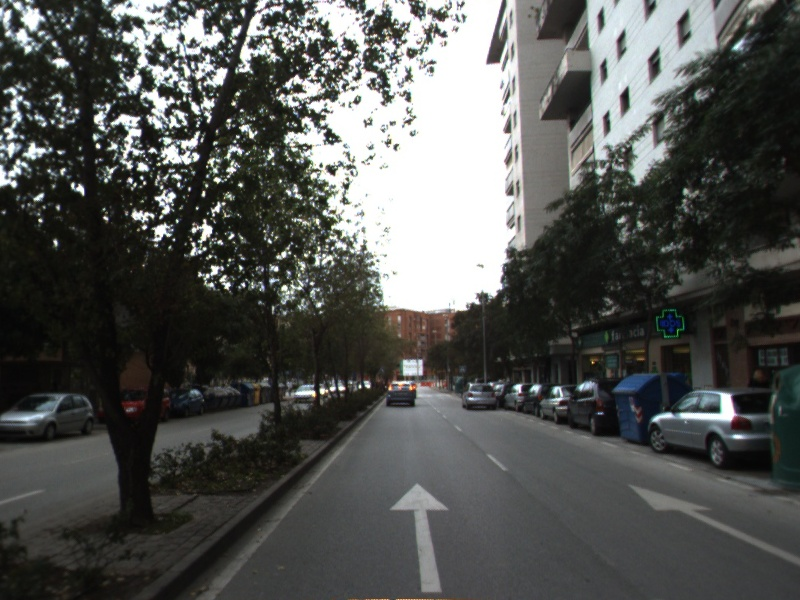STRAIGHT: (624, 481, 800, 567), (387, 480, 452, 595)
